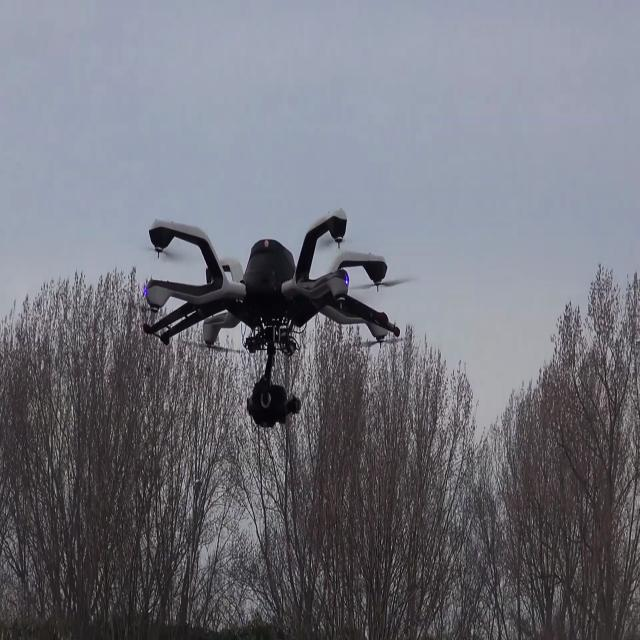drone: (143, 136, 389, 452)
